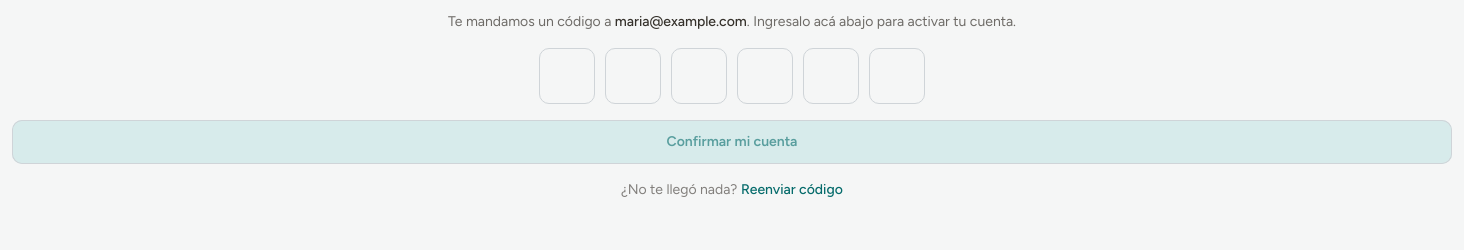
Test: ConfirmarCodigoForm › reenviar código con error lo muestra en vez del mensaje
Click the button "Reenviar código": click(792, 190) [741,180,843,200]
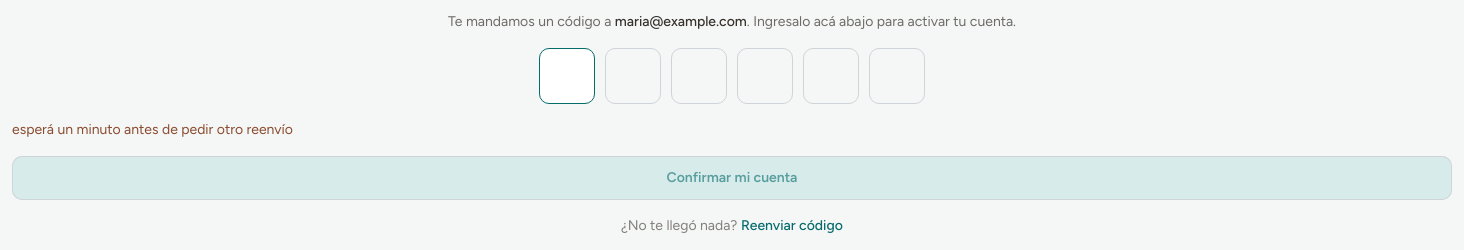
Check: the message reads "esperá un minuto antes de pedir otro reenvío", box [12,121,293,138]
